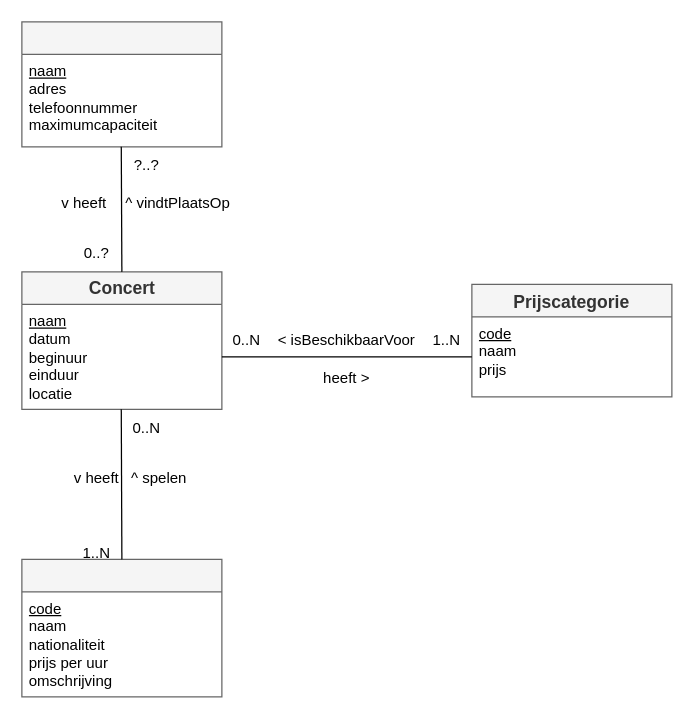
Some shapes in this 694 by 723 pixel diagram are drawn without their labels. Each missing label, with the box of its shape:
Artiest: (21, 558, 222, 697)
Locatie: (21, 21, 222, 147)
